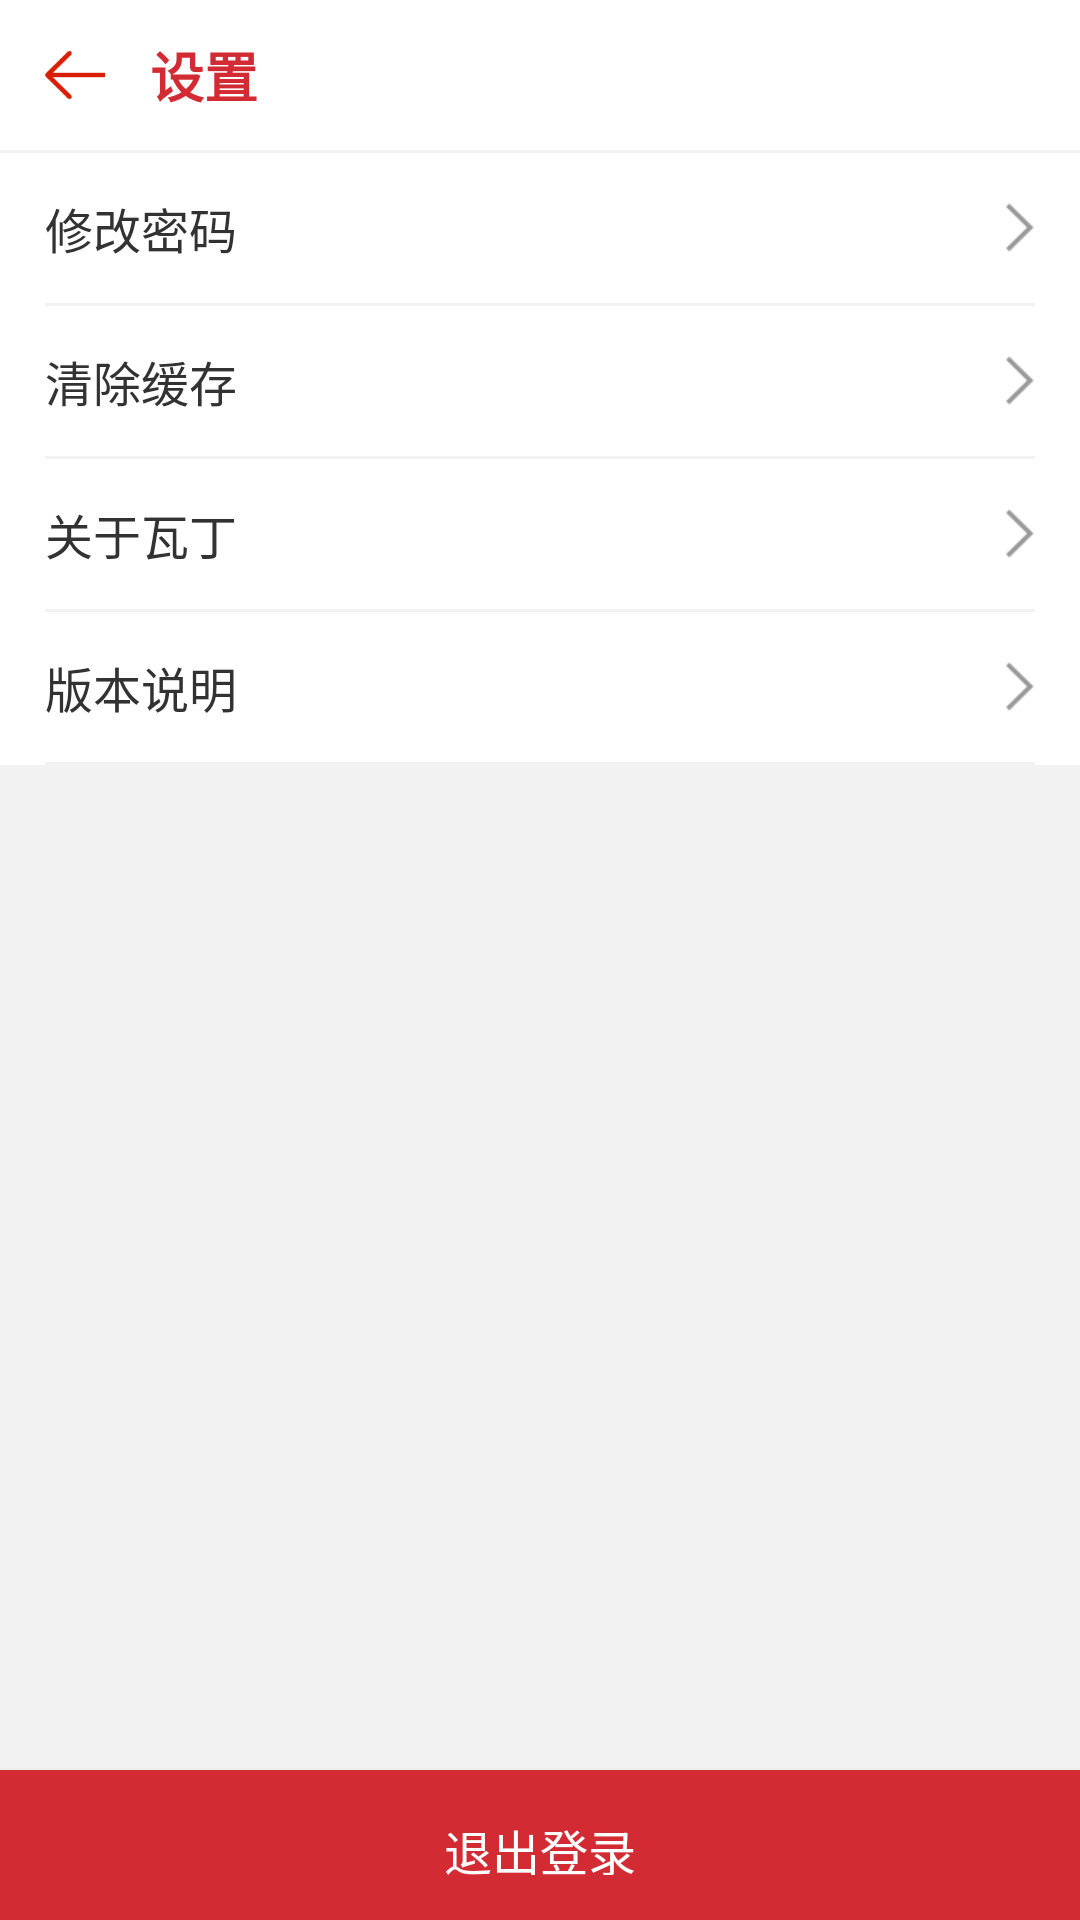

Named icons in this screenshot (1080px x 1920px) and their centers, [x,y]:
back: [75,75]
more: [1020,227], [1020,380], [1020,533], [1020,686]
